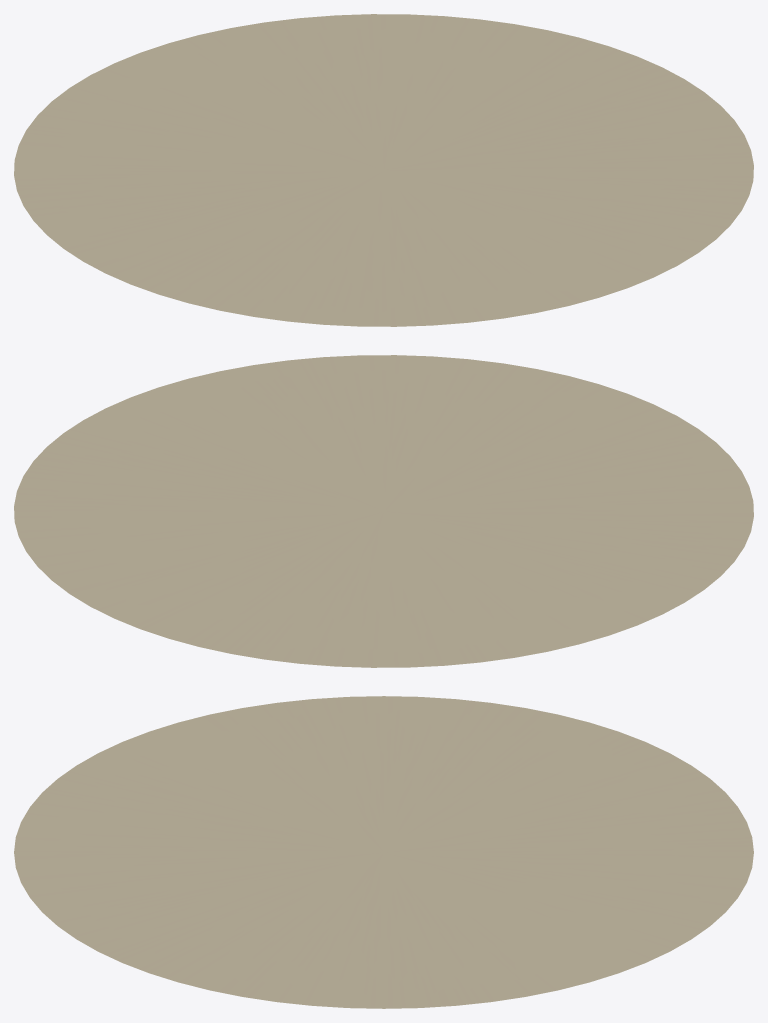
File: SM_Edo_District_Plaza.fbx
The picture shows the model from 3 angles, top to bottom: view 1: azimuth 30°, elevation 25°; view 2: azimuth 150°, elevation 25°; view 3: azimuth 270°, elevation 25°; orthographic projection.
Visible parts, largest first — view 1: SM_Edo_District_Plaza; view 2: SM_Edo_District_Plaza; view 3: SM_Edo_District_Plaza.
Part boxes in pixels (bbox=[...]): SM_Edo_District_Plaza: bbox=[14, 14, 753, 326]; SM_Edo_District_Plaza: bbox=[14, 355, 753, 667]; SM_Edo_District_Plaza: bbox=[14, 696, 753, 1008].
Bounding box in the file's own units: 40 × 0.000367 × 40.
